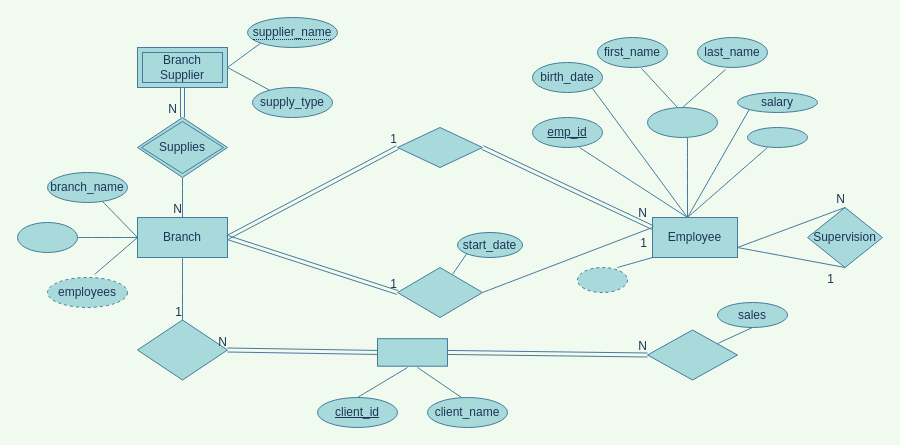
Some shapes in this 900 by 445 pixel diagram are drawn without their labels. The shapes that lost their labels are listed below. From the top down, each one's centre as x and y in pixels, then its label:
At point 682,122: "name".
At point 777,137: "sex".
At point 439,147: "Works For".
At point 47,237: "branch_id".
At point 439,292: "Manages".
At point 602,279: "age".
At point 182,349: "Handles".
At point 412,352: "Client".
At point 692,354: "Works With".
